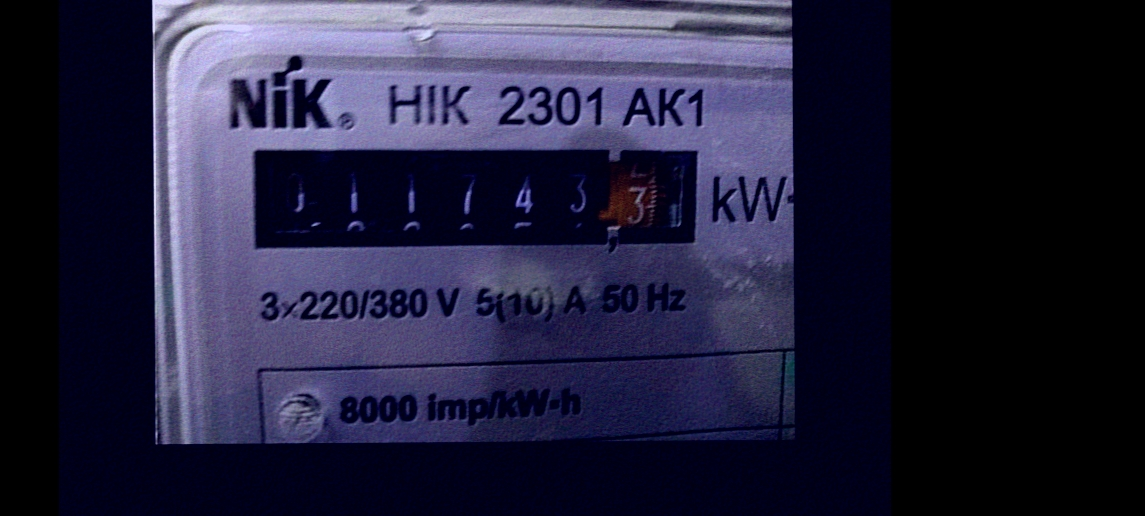0: (281, 168, 311, 215)
1: (401, 168, 423, 216), (346, 169, 364, 217)
3: (565, 169, 594, 216), (625, 183, 650, 227)
4: (511, 168, 540, 217)
7: (457, 170, 482, 218)
screen: (239, 137, 706, 258)
